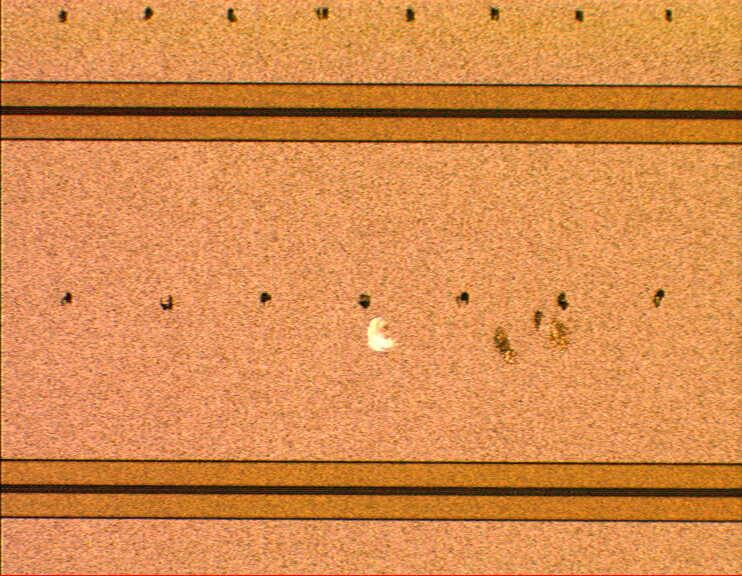SCRATCH: (336, 313, 583, 367)
